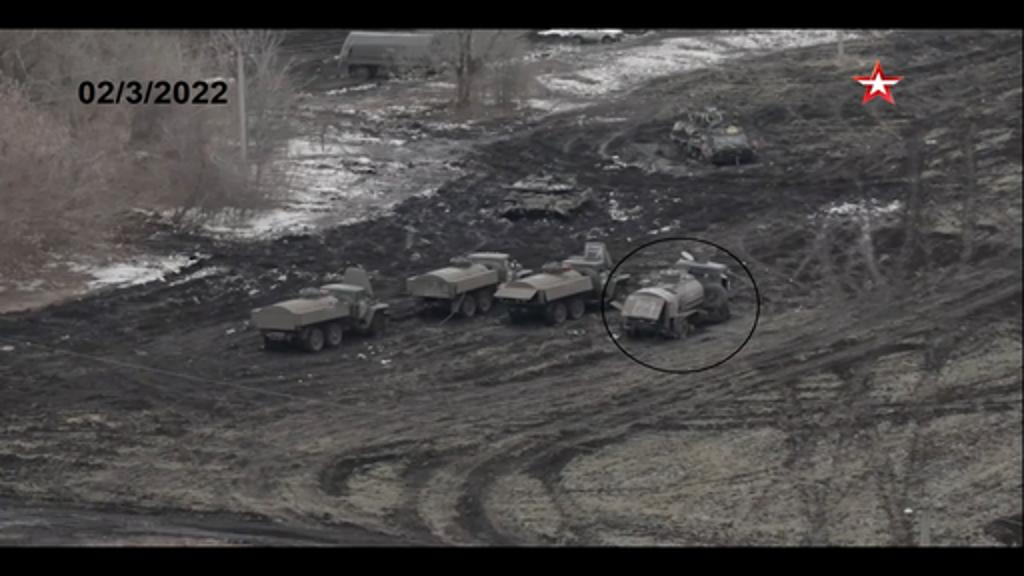APC-IFV: (666, 100, 762, 168)
TANK: (492, 168, 596, 224)
TRUCK: (246, 270, 388, 358), (494, 242, 616, 330), (618, 258, 734, 342), (404, 246, 526, 324)
